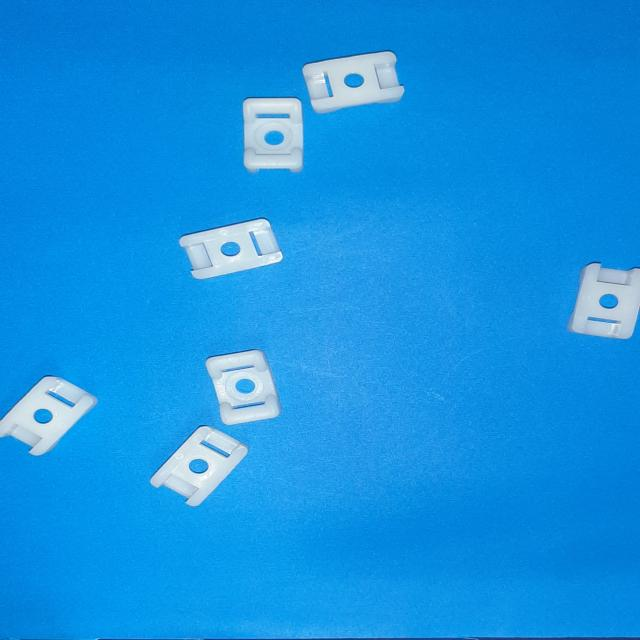false_1: (150, 426, 248, 506), (0, 376, 97, 455), (302, 51, 405, 114), (180, 219, 283, 279), (567, 262, 640, 339)
true: (207, 350, 282, 425), (243, 98, 303, 172)
true_center: (263, 131, 285, 145), (235, 379, 255, 394)
